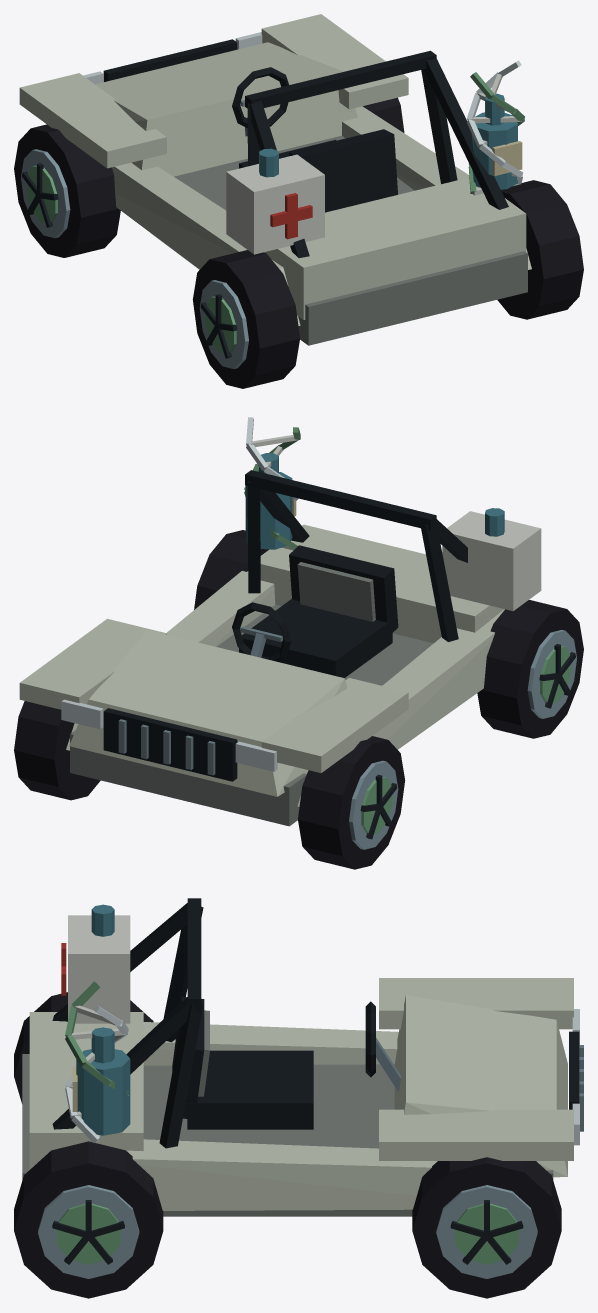
The model's file is kart.glb.
The picture shows the model from 3 angles, top to bottom: view 1: azimuth 30°, elevation 25°; view 2: azimuth 150°, elevation 25°; view 3: azimuth 270°, elevation 25°; orthographic projection. The views are drawn at different scales.
Visible parts, largest first — view 1: identity-jeep-jeep-offroad-frame, wheel-rear-left, wheel-front-left, identity-jeep-motif-medical, wheel-rear-right, identity-jeep-driver-cockpit, identity-jeep-motif-bottles, identity-jeep-motif-dna, wheel-front-right; view 2: identity-jeep-jeep-offroad-frame, identity-jeep-driver-cockpit, wheel-rear-left, wheel-front-left, identity-jeep-motif-medical, wheel-front-right, wheel-rear-right, identity-jeep-motif-bottles, identity-jeep-motif-dna; view 3: identity-jeep-jeep-offroad-frame, wheel-rear-right, wheel-front-right, identity-jeep-driver-cockpit, identity-jeep-motif-medical, identity-jeep-motif-bottles, identity-jeep-motif-dna, wheel-rear-left.
Part boxes in pixels (x1,y1,x2,y2): identity-jeep-jeep-offroad-frame: [19, 14, 531, 345]; wheel-rear-left: [192, 250, 299, 388]; wheel-front-left: [14, 124, 120, 257]; identity-jeep-motif-medical: [226, 154, 324, 254]; wheel-rear-right: [497, 180, 583, 319]; identity-jeep-driver-cockpit: [232, 67, 397, 212]; identity-jeep-motif-bottles: [259, 93, 522, 189]; identity-jeep-motif-dna: [466, 60, 524, 195]; wheel-front-right: [363, 97, 404, 132]; identity-jeep-jeep-offroad-frame: [19, 470, 504, 826]; identity-jeep-driver-cockpit: [232, 545, 398, 677]; wheel-rear-left: [477, 600, 583, 738]; wheel-front-left: [298, 736, 405, 869]; identity-jeep-motif-medical: [442, 511, 541, 610]; wheel-front-right: [14, 701, 100, 800]; wheel-rear-right: [194, 530, 269, 609]; identity-jeep-motif-bottles: [245, 453, 504, 549]; identity-jeep-motif-dna: [244, 417, 300, 550]; identity-jeep-jeep-offroad-frame: [22, 898, 583, 1216]; wheel-rear-right: [14, 1141, 163, 1298]; wheel-front-right: [412, 1157, 561, 1298]; identity-jeep-driver-cockpit: [172, 996, 400, 1129]; identity-jeep-motif-medical: [61, 915, 130, 1023]; identity-jeep-motif-bottles: [72, 904, 130, 1135]; identity-jeep-motif-dna: [65, 981, 128, 1142]; wheel-rear-left: [14, 992, 153, 1103].
Bounding box in the file's own units: 2.13 × 1.47 × 2.75.
